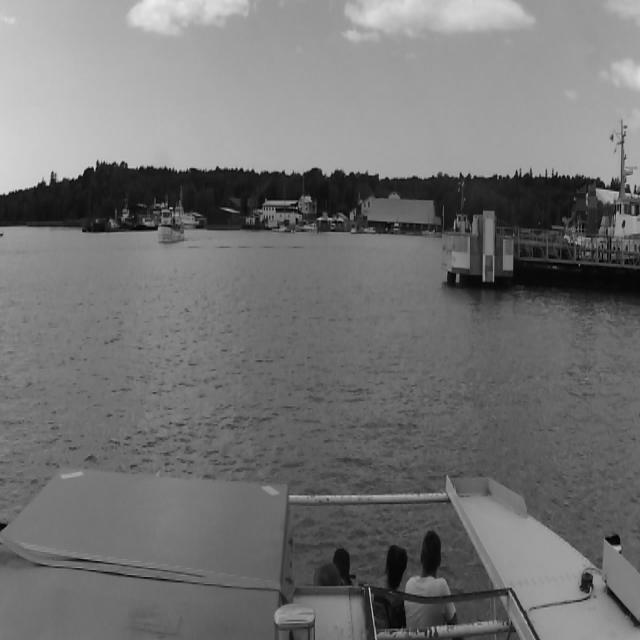ship: (156, 207, 184, 244), (119, 199, 137, 230), (96, 212, 120, 232), (139, 213, 156, 230), (394, 223, 401, 235)
